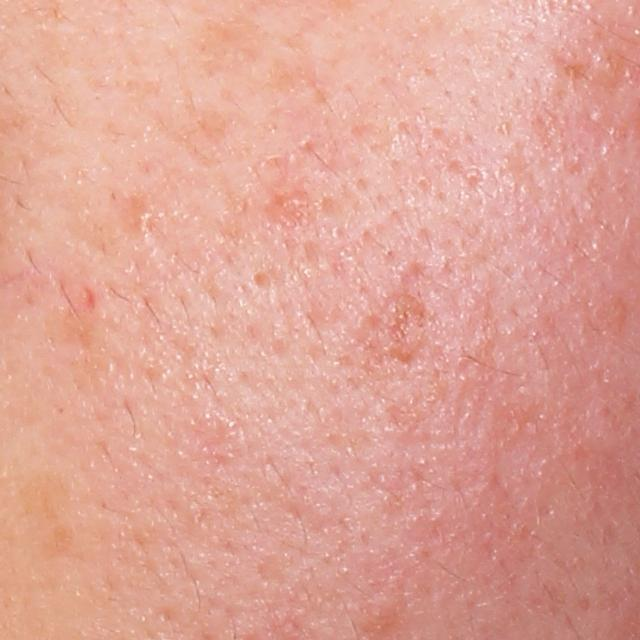comedo: (245, 269, 277, 300), (129, 203, 156, 237)
